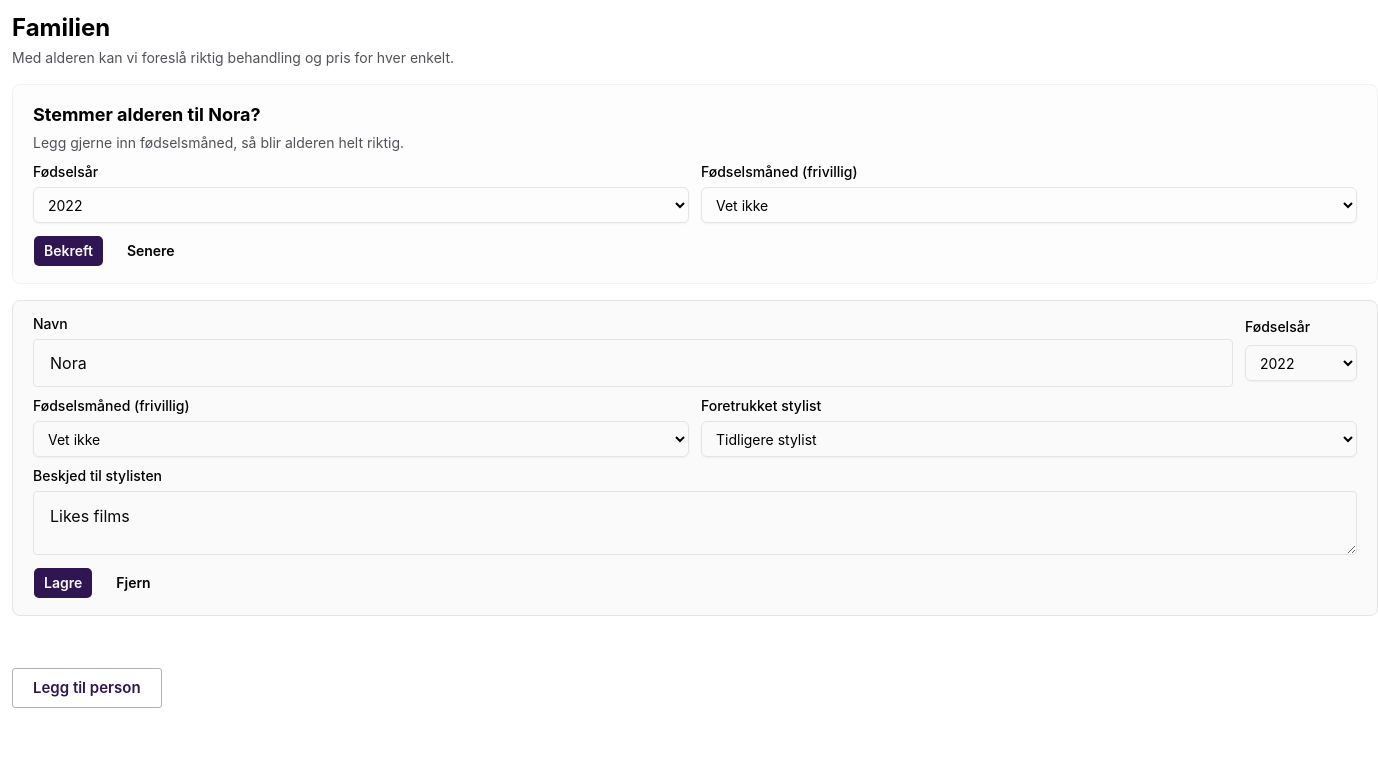
Test: Age prompt in the family editor › keeps the card and says why when the save fails
The image size is (1378, 780).
Select "3" in the 1st dropdown labelled "Fødselsmåned (frivillig)" at [1029, 205], box [701,187,1357,223]
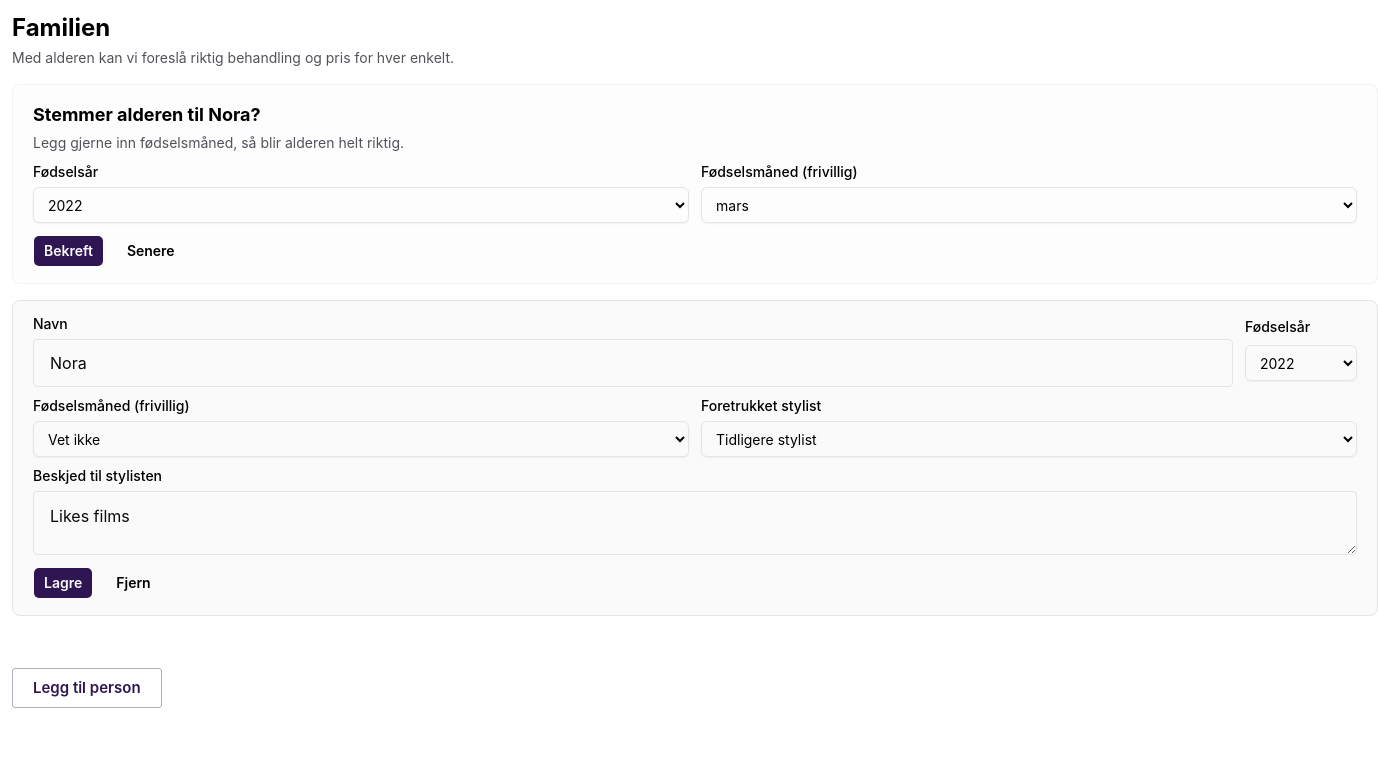
Click the button "Bekreft" at [68, 251], box [33,235,104,267]
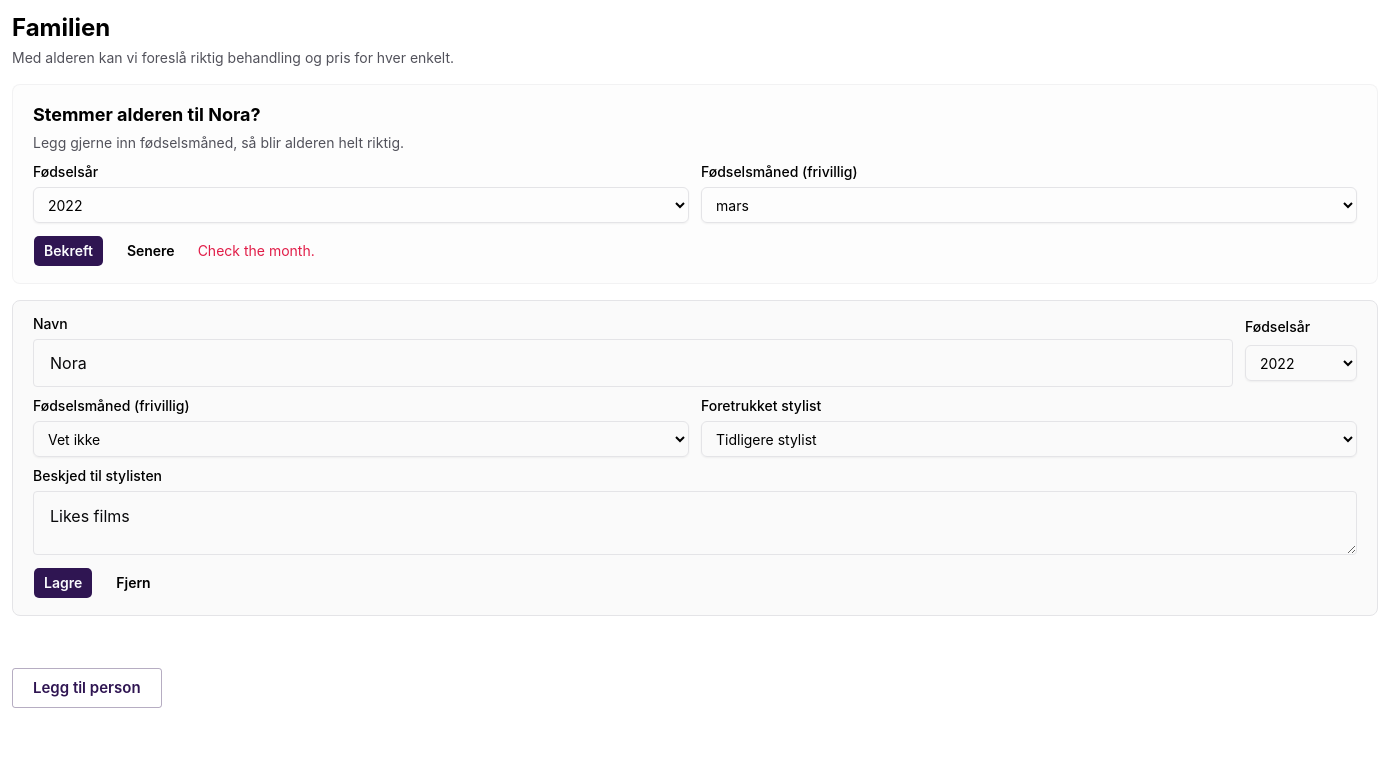
Expected: the element "Stemmer alderen til" is shown, [12,84,1377,284]
Result: the text "Check the month." is shown at [198,241,315,261]
